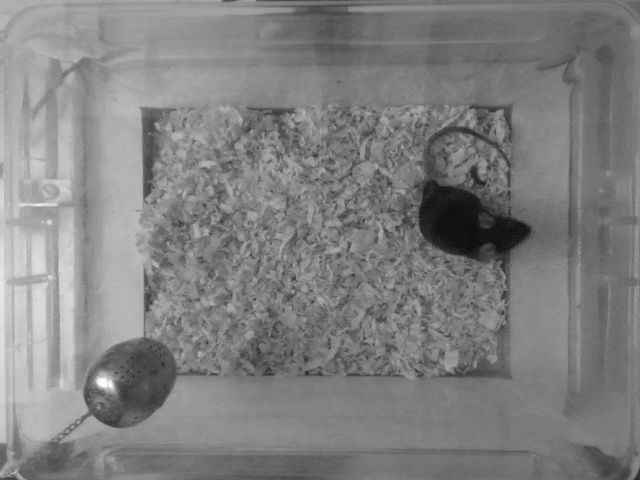mice: (419, 124, 535, 267)
